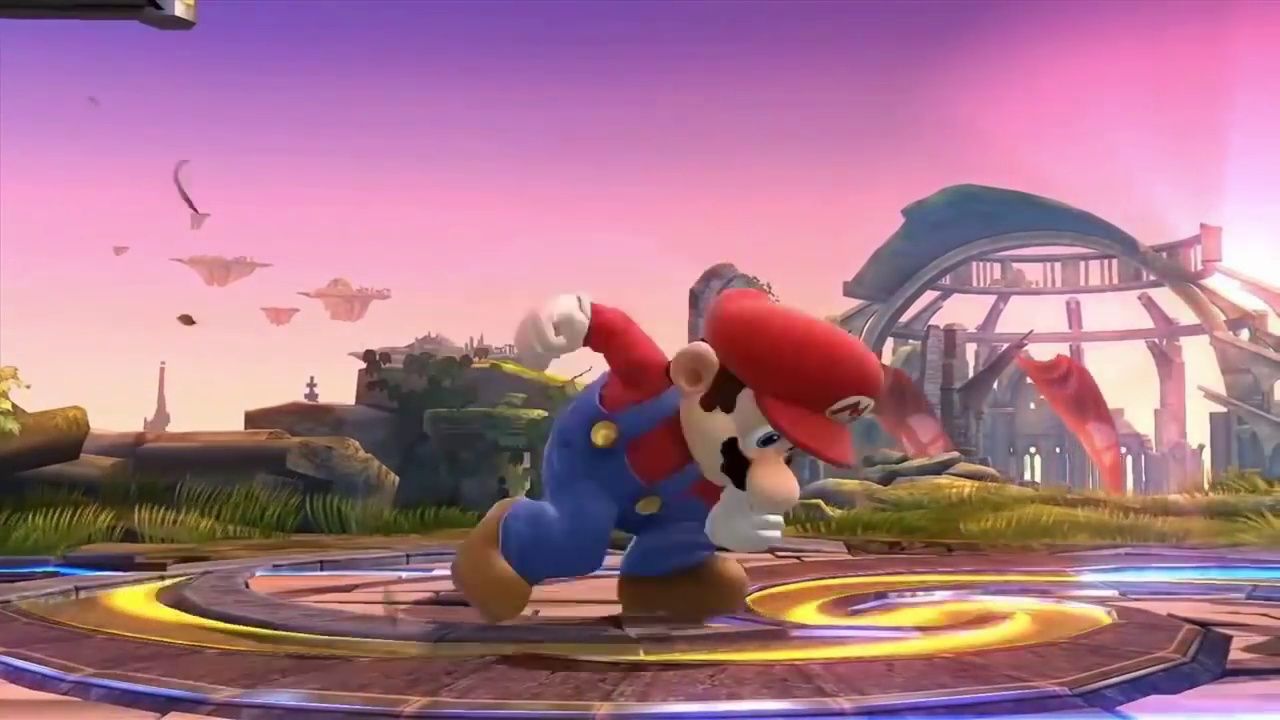Mario: (452, 284, 882, 620)
